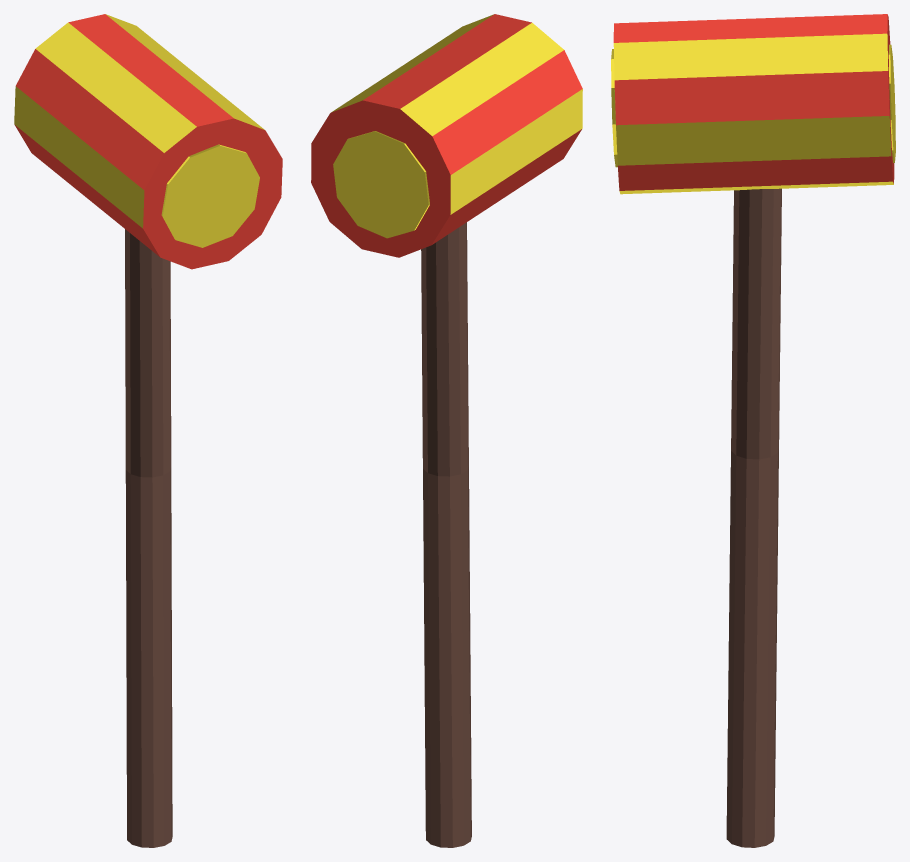
Rendered from hammer.obj.
3 views of the same model, side by side, from view 1: azimuth 30°, elevation 25°; view 2: azimuth 150°, elevation 25°; view 3: azimuth 270°, elevation 25° (orthographic). The views are drawn at different scales.
Parts seen in each view (by area): view 1: model; view 2: model; view 3: model.
Part boxes in pixels (<box>): model: <box>14,14,282,847</box>; model: <box>311,14,582,847</box>; model: <box>611,14,895,847</box>.
Size of the model in its own units: 0.244 by 1.29 by 0.4088.
